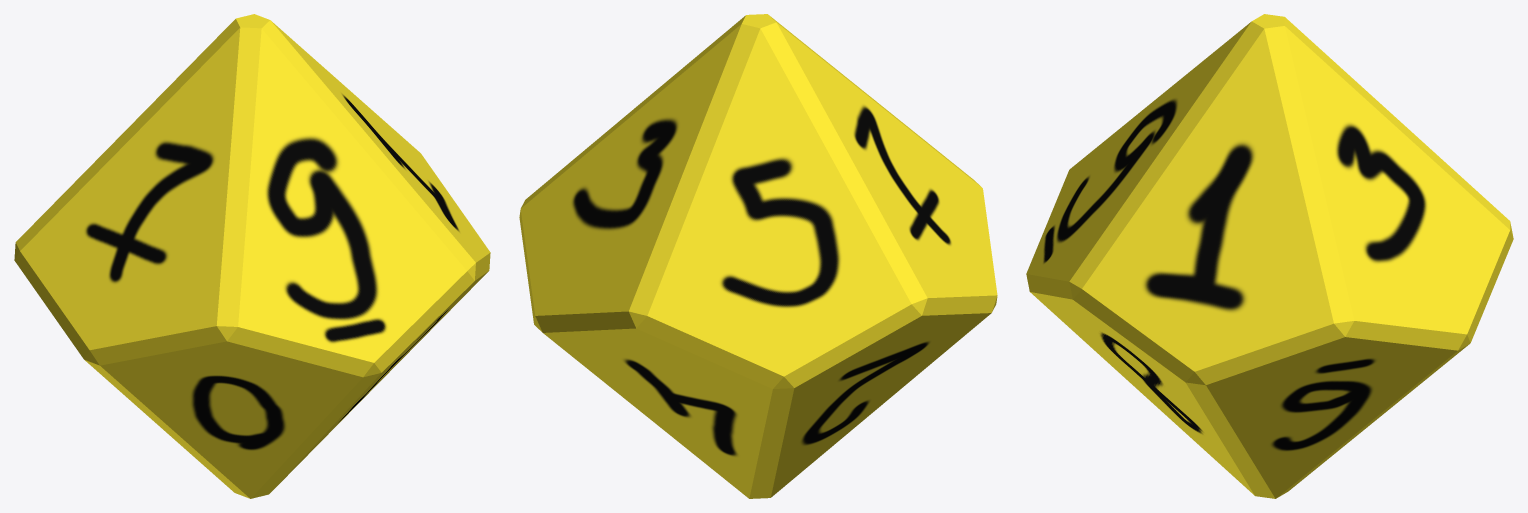
The model's file is d_ten.fbx.
3 renders of one model, left to right at view 1: azimuth 30°, elevation 25°; view 2: azimuth 150°, elevation 25°; view 3: azimuth 270°, elevation 25°, orthographic.
Parts seen in each view (by area): view 1: Cone; view 2: Cone; view 3: Cone.
Boxes of the visible parts, <box> form: Cone: <box>14,14,490,498</box>; Cone: <box>519,14,997,498</box>; Cone: <box>1026,14,1513,498</box>.
Size of the model in its own units: 0.8218 by 0.9199 by 0.8641.
